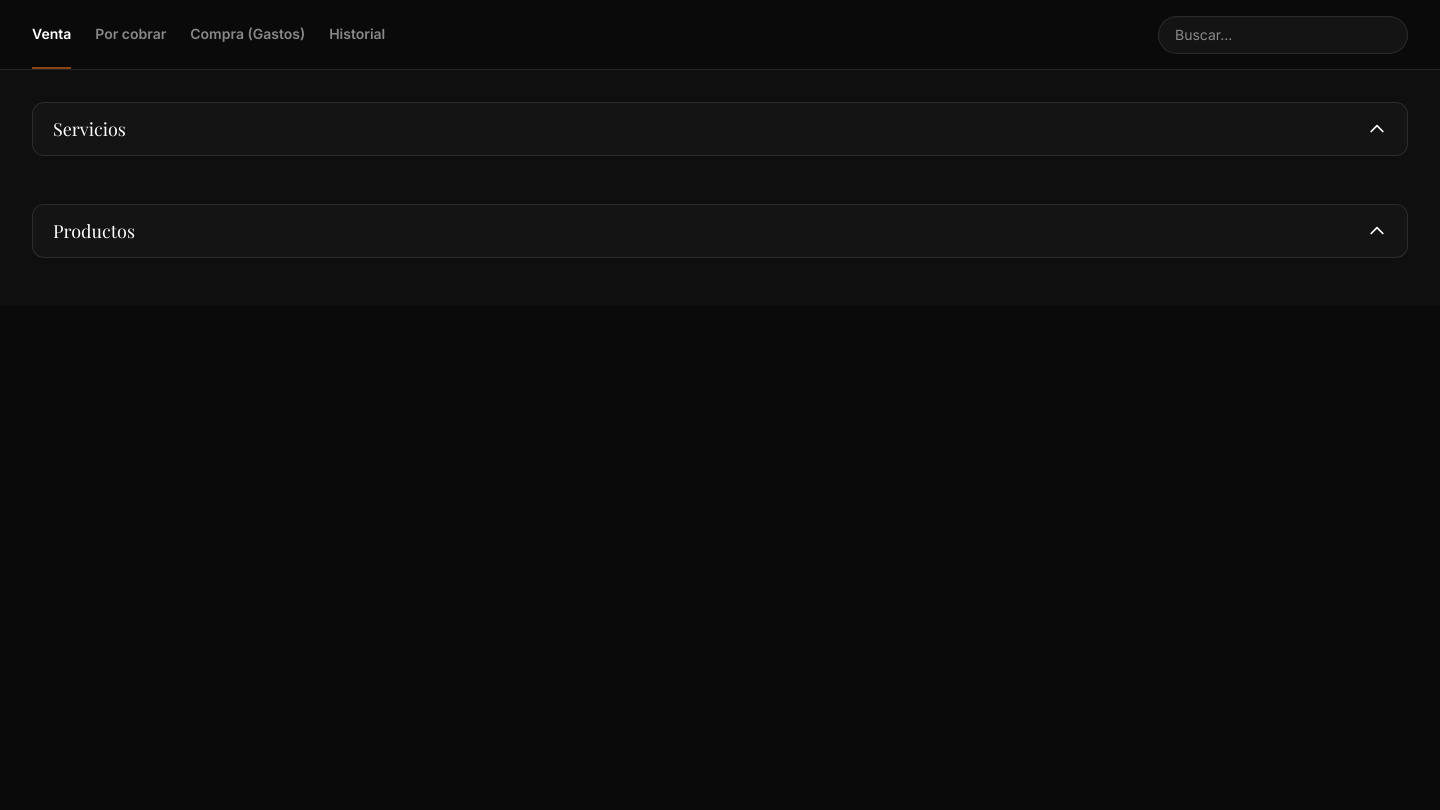
Test: POSManager › agrupa la deuda por cliente y presenta los conceptos sin exponer movimientos
Click the button "Por cobrar" at (131, 34), box [95,0,166,68]
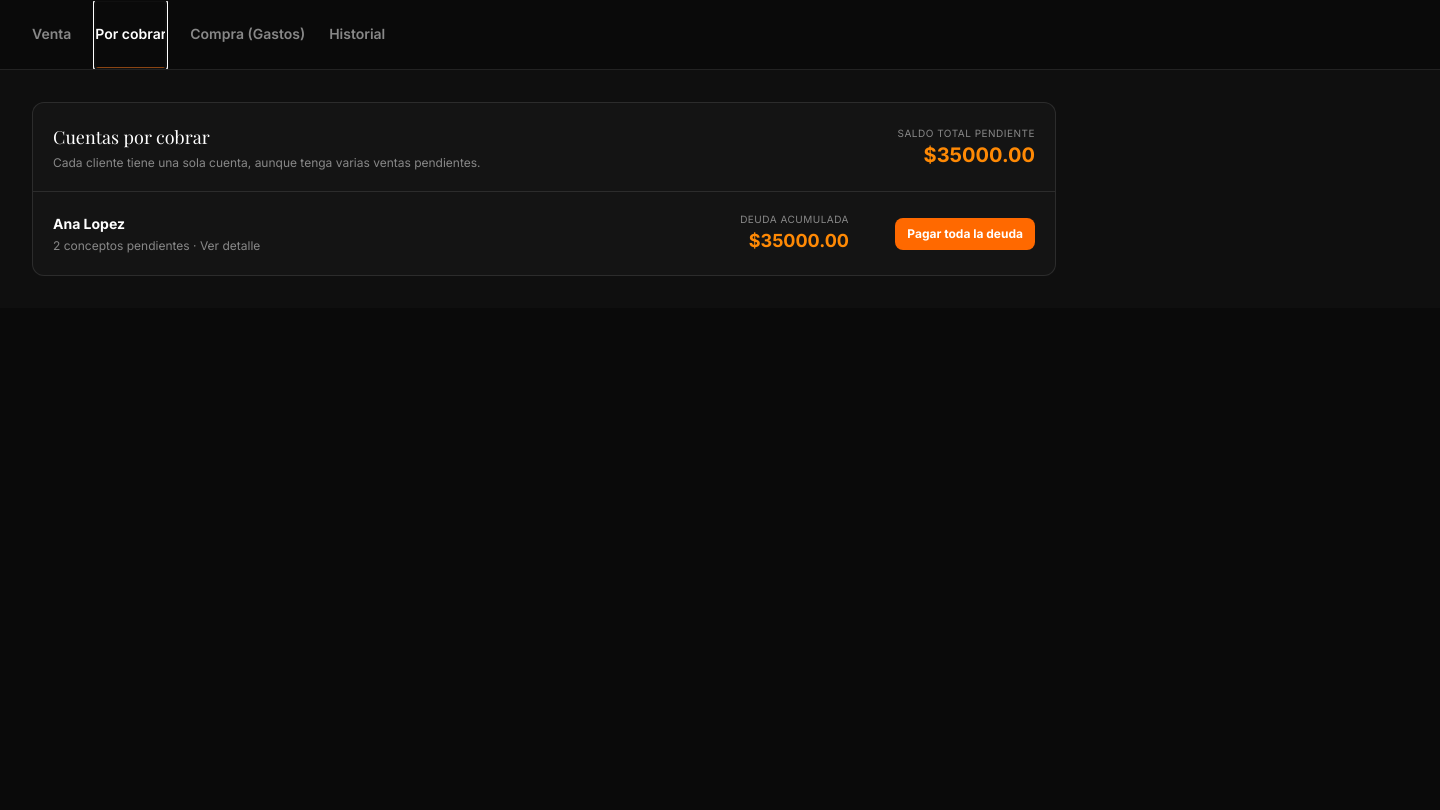
Click the heading "Ana Lopez" at (89, 223), box [53,214,125,232]
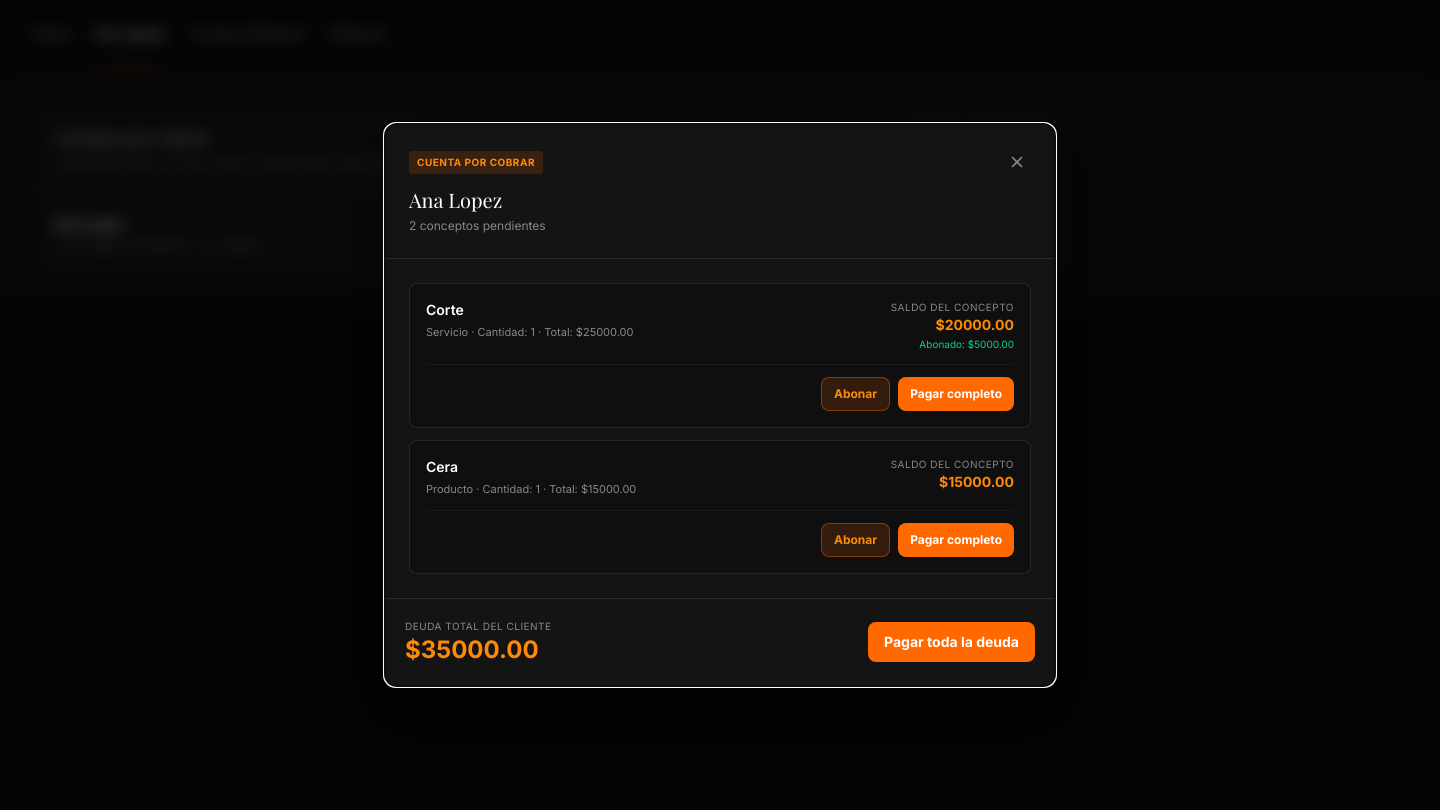
Check: the dialog named "Cuenta por cobrar de Ana Lopez" shows "2 conceptos pendientes", box [384,123,1056,687]
Check: the dialog named "Cuenta por cobrar de Ana Lopez" shows "Corte", box [426,301,464,318]
Check: the dialog named "Cuenta por cobrar de Ana Lopez" shows "Cera", box [426,458,458,475]
Click the button "Pagar toda la deuda" at (952, 642), box [868,622,1035,662]
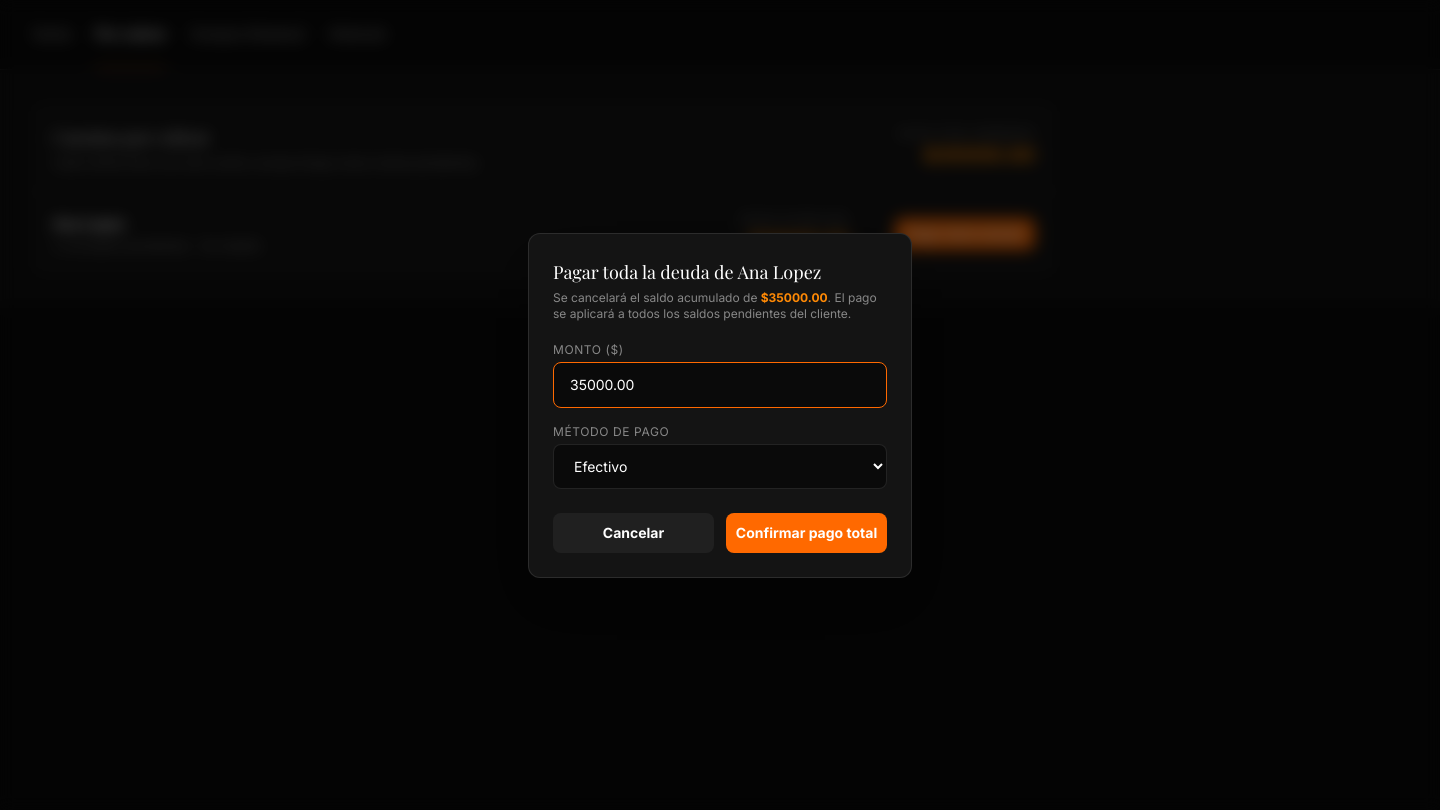
Check: the dialog "Pagar toda la deuda de Ana Lopez" is shown, box [528,232,912,578]
Check: the number field labelled "Monto ($)" holds "35000", box [553,362,887,408]
